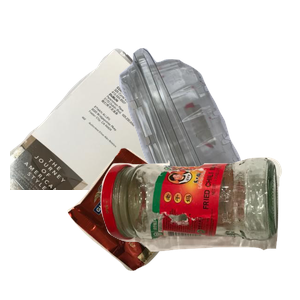glass: (98, 155, 300, 300)
paper: (10, 46, 250, 226)
plastic: (71, 45, 300, 225)
trash: (65, 145, 242, 300)
